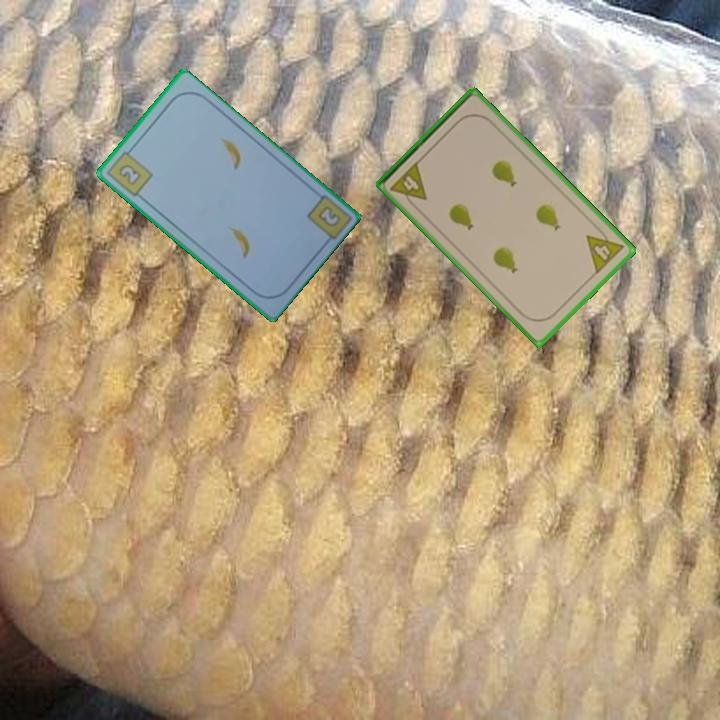2b: (104, 143, 156, 200), (314, 202, 343, 230)
4p: (583, 222, 627, 277), (387, 158, 431, 211)
